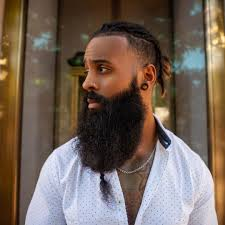black_male: (83, 34, 170, 169)
